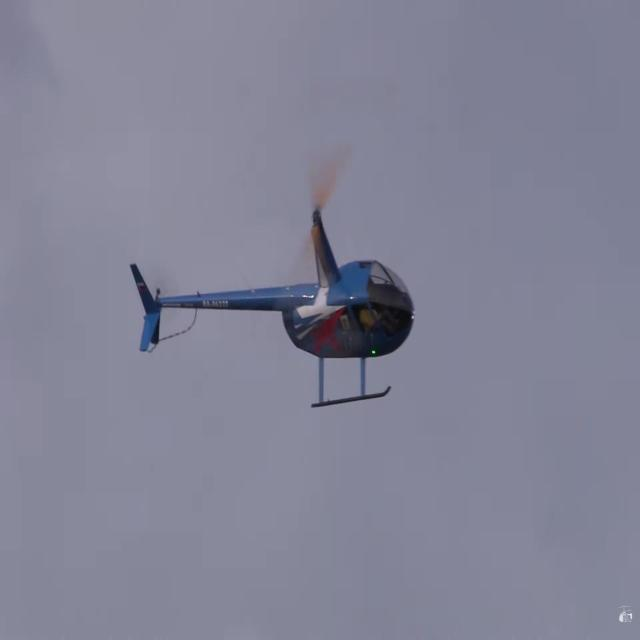CIV_HELO: (129, 202, 416, 413)
